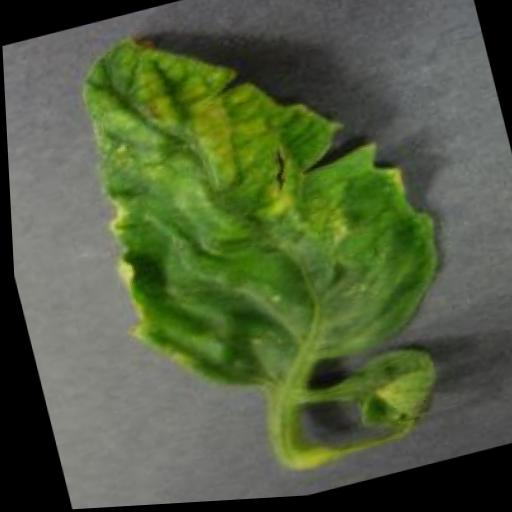Yellow Leaf Curl Virus: (59, 0, 461, 415)
